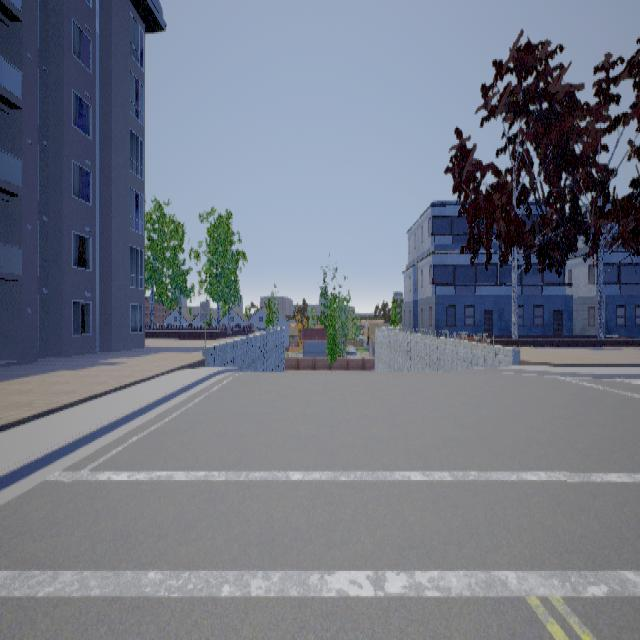traffic_sign: (201, 300, 211, 320)
